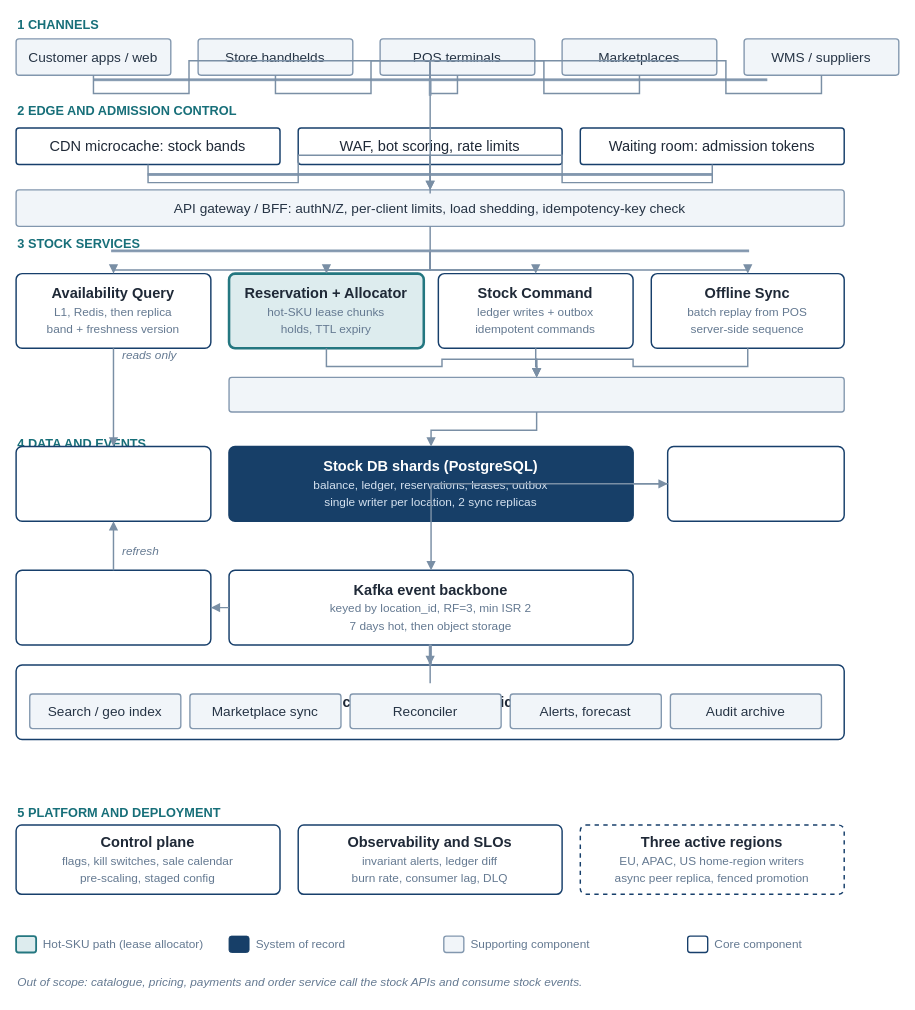
This 915x1010 diagram has some shape labels left out. Each missing label, with the centre of its shape:
"Outbox / CDC committed events only ordered per location" goes at (755,483).
"Projector builds read models versioned writes" goes at (113,607).
"Redis Cluster bands, SOLD_OUT flags allocator counters" goes at (113,483).
"Shard directory + router: versioned epochs, ownership key = location + SKU" goes at (536,394).
